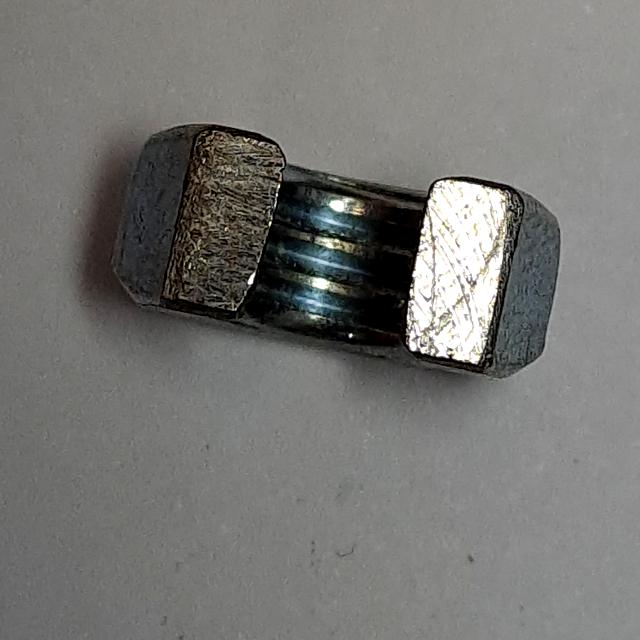Side-Fracture: (92, 113, 574, 391)
